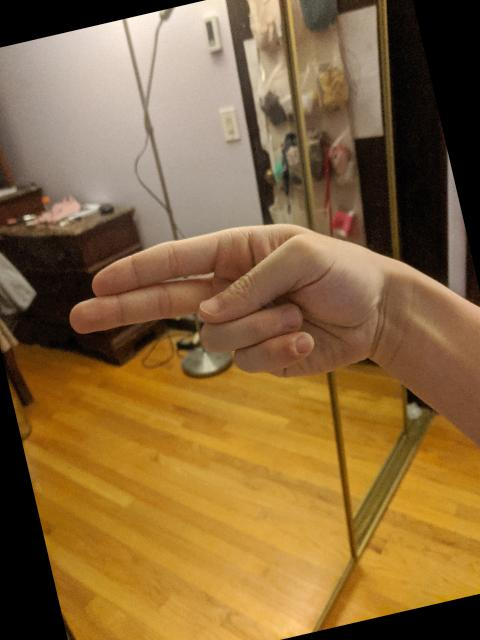H: (49, 188, 404, 432)
